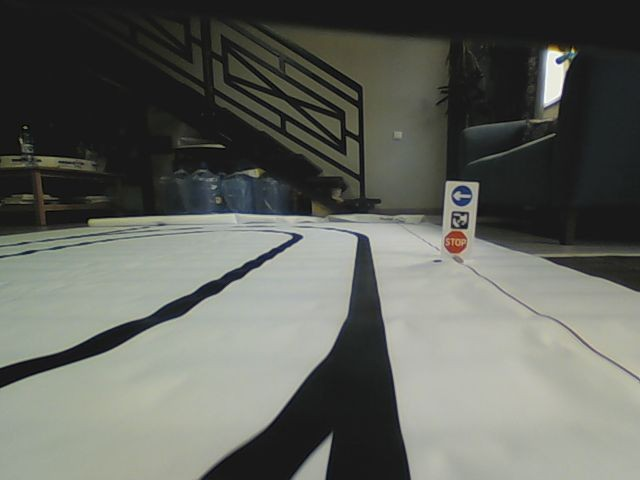Stop: (444, 230, 467, 255)
